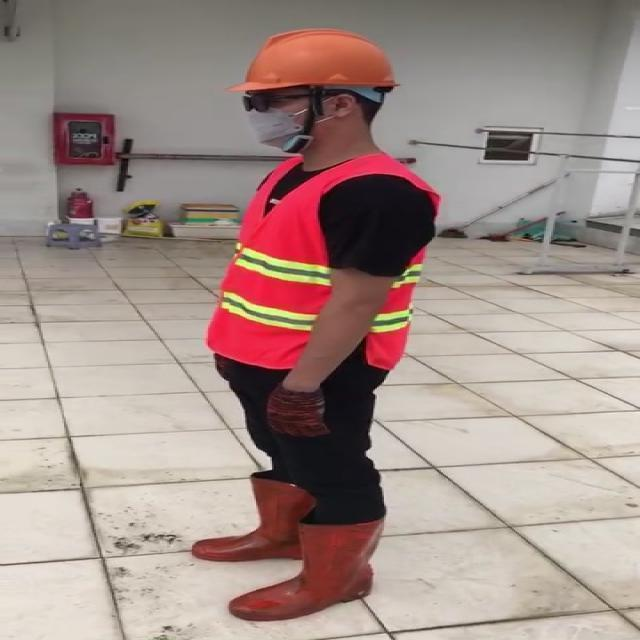gloves: (266, 382, 331, 439)
goggles: (242, 89, 362, 113)
helmet: (242, 26, 408, 92)
safety_vest: (202, 158, 448, 368)
